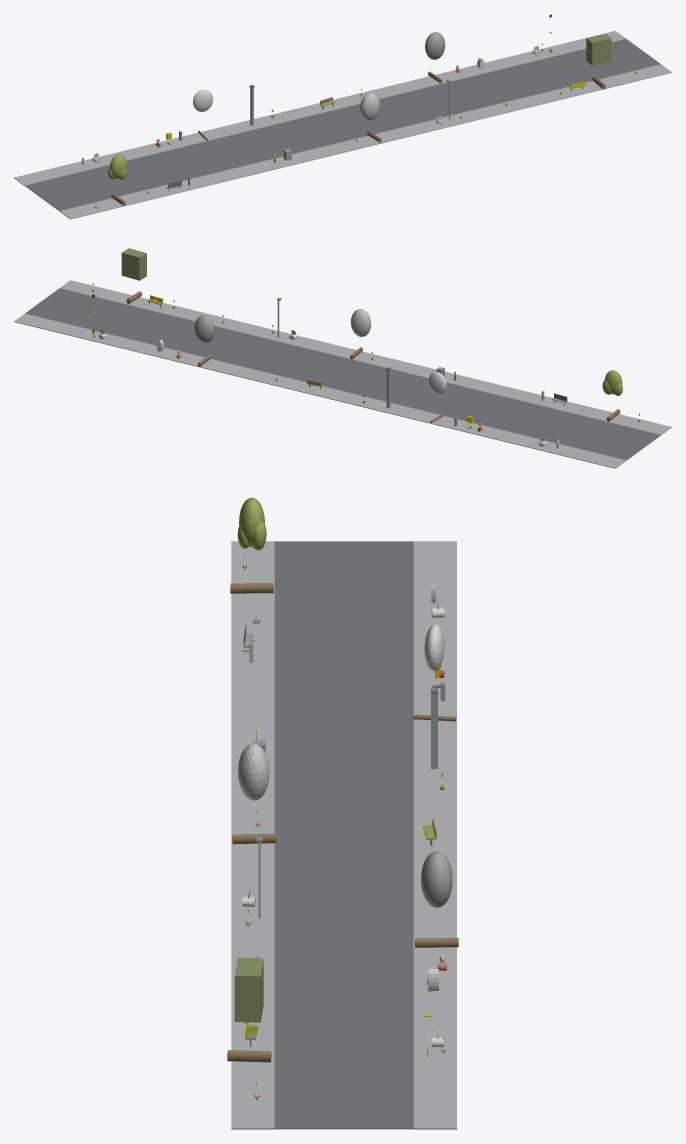
3 renders of one model, top to bottom at view 1: azimuth 30°, elevation 25°; view 2: azimuth 150°, elevation 25°; view 3: azimuth 270°, elevation 25°, orthographic. The views are drawn at different scales.
Visible parts, largest first — view 1: road_slab, sidewalk_left, sidewalk_right, inst_0016, inst_0014, inst_0015, inst_0012, inst_0013; view 2: road_slab, sidewalk_right, sidewalk_left, inst_0016, inst_0014, inst_0015, inst_0012, inst_0013; view 3: road_slab, sidewalk_right, sidewalk_left, inst_0016, inst_0015, inst_0014, inst_0012, inst_0013.
Part boxes in pixels (x1,y1,x2,y2): road_slab: [25, 39, 660, 210]; sidewalk_left: [59, 64, 671, 219]; sidewalk_right: [14, 31, 625, 185]; inst_0016: [586, 34, 611, 89]; inst_0014: [360, 92, 381, 142]; inst_0015: [425, 32, 445, 83]; inst_0012: [108, 154, 127, 205]; inst_0013: [193, 89, 213, 140]; road_slab: [25, 288, 660, 460]; sidewalk_right: [14, 313, 626, 468]; sidewalk_left: [60, 280, 671, 435]; inst_0016: [121, 248, 146, 303]; inst_0014: [350, 309, 371, 359]; inst_0015: [194, 315, 214, 366]; inst_0012: [602, 370, 622, 421]; inst_0013: [428, 371, 446, 422]; road_slab: [274, 541, 413, 1129]; sidewalk_right: [413, 541, 456, 1129]; sidewalk_left: [231, 541, 274, 1129]; inst_0016: [227, 957, 271, 1062]; inst_0015: [415, 851, 458, 947]; inst_0014: [232, 743, 276, 844]; inst_0012: [230, 497, 273, 593]; inst_0013: [412, 624, 456, 721].
Bounding box in the file's own units: 80 × 6.08 × 13.32.
